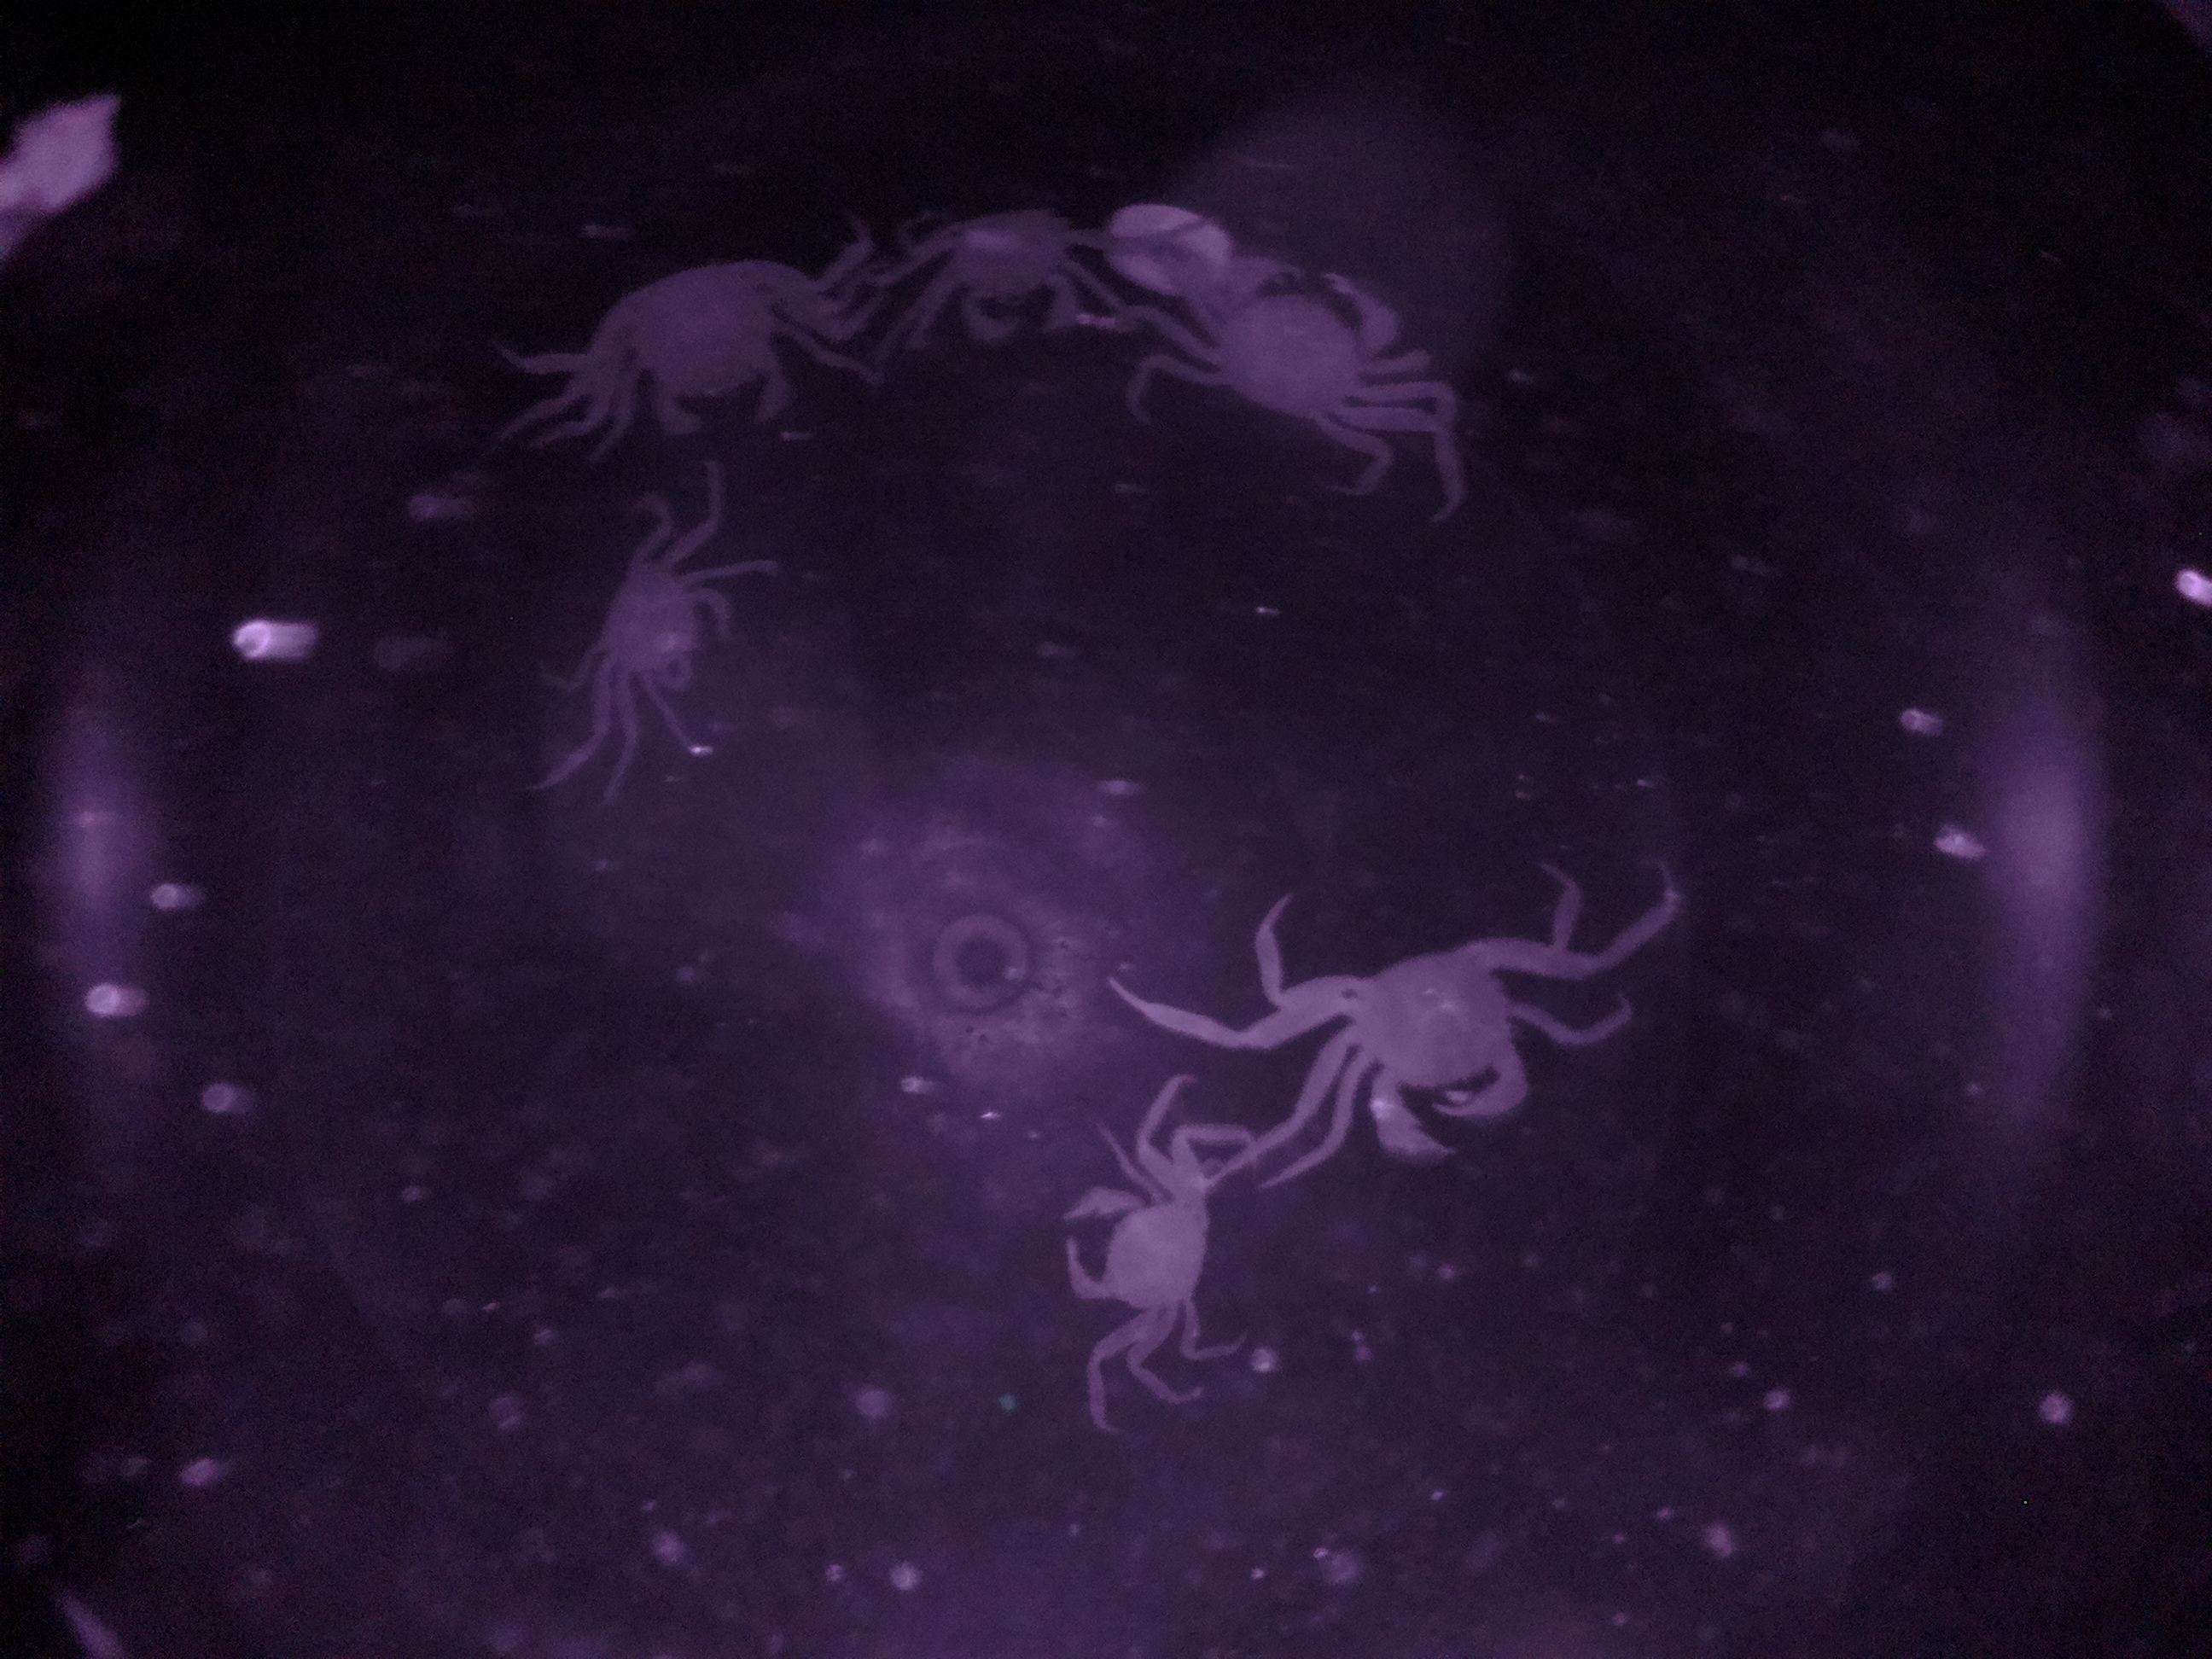Crab: (1249, 908, 1588, 1175), (561, 246, 857, 460), (1160, 242, 1439, 443), (1040, 1127, 1233, 1370), (561, 538, 752, 734), (907, 190, 1130, 357)
